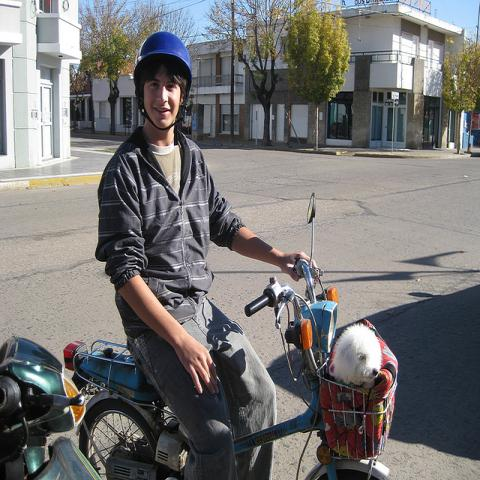motorcycle: (62, 190, 391, 475)
